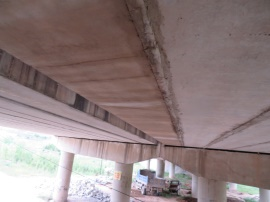corrosion: (144, 26, 160, 56)
